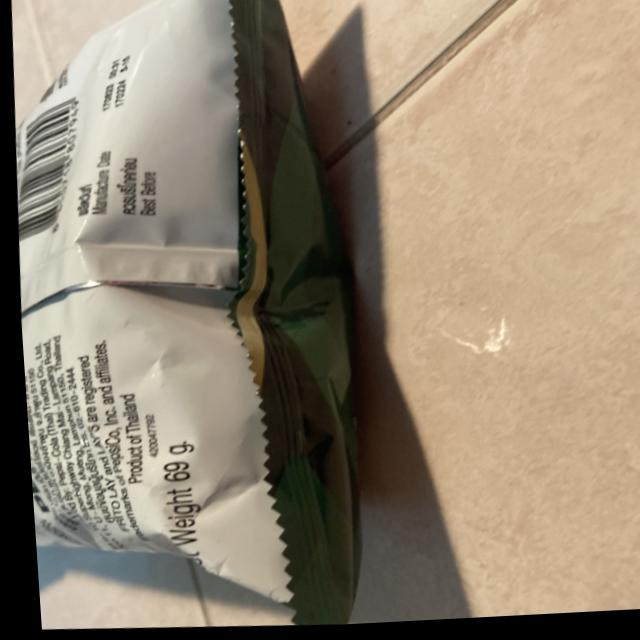Laygreen: (0, 0, 408, 633)
